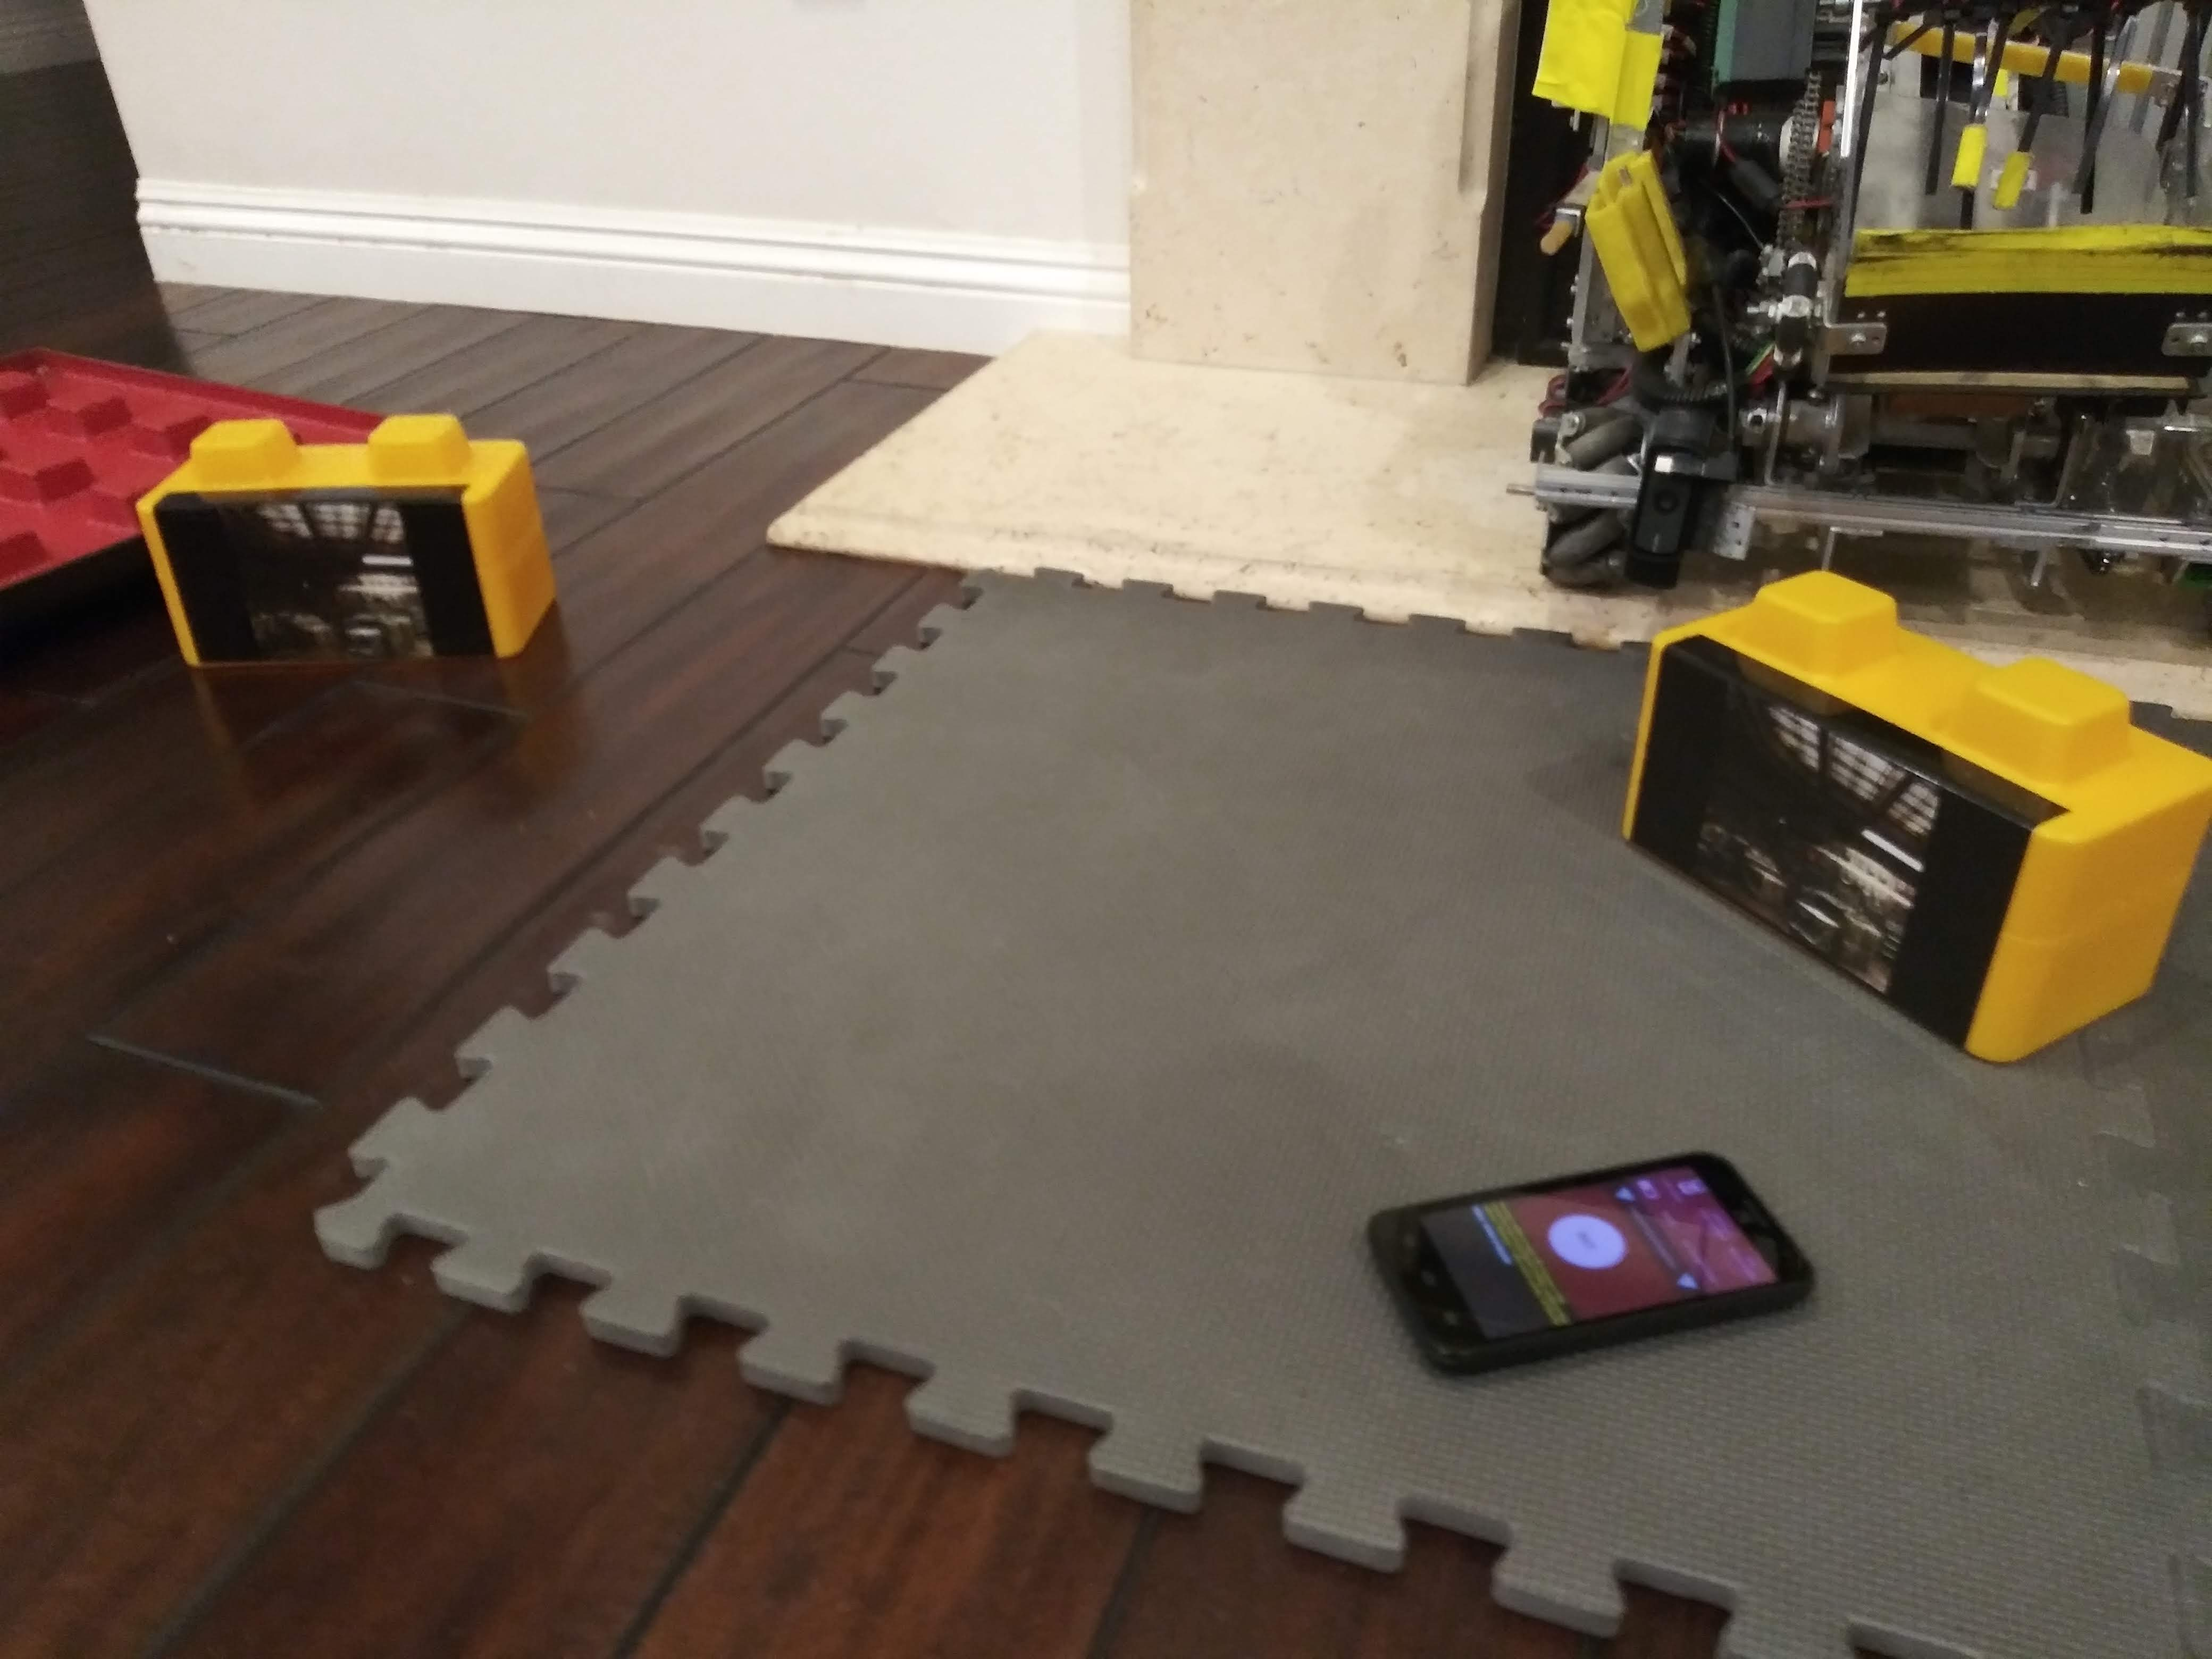skystone: (1625, 613, 2120, 1060), (143, 437, 517, 671)
